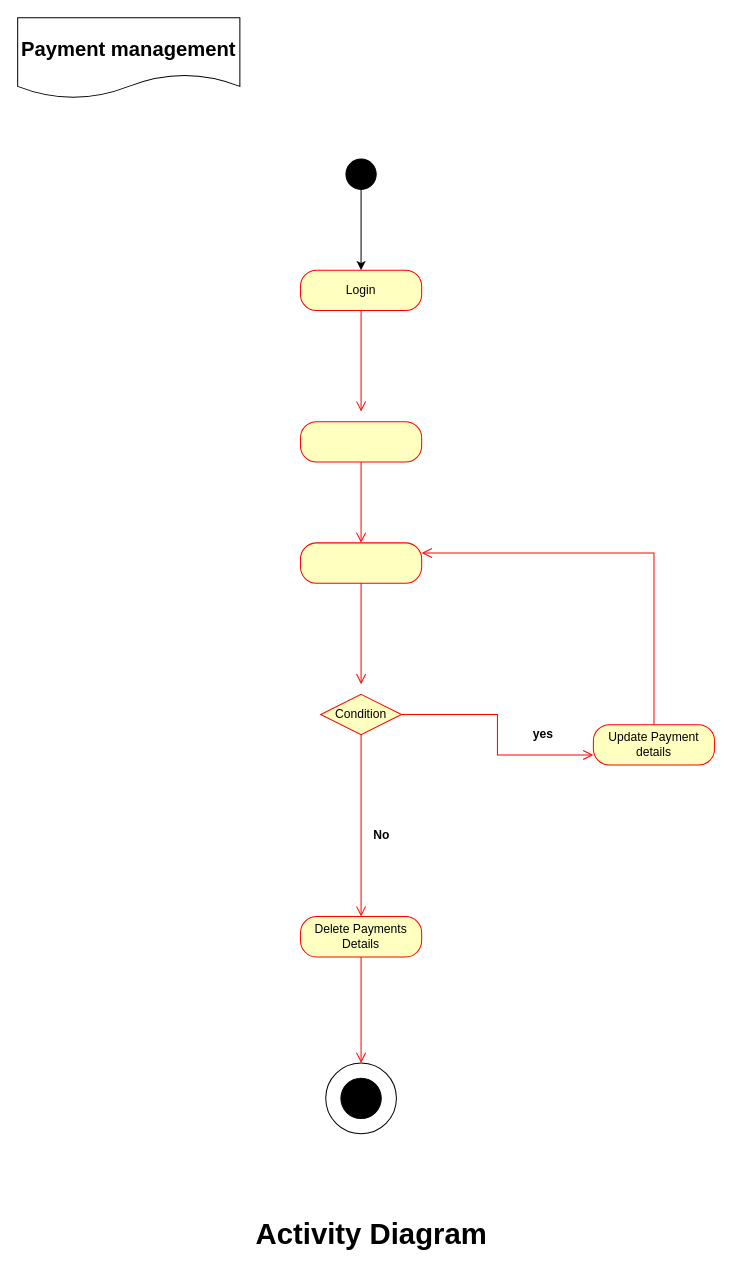
This 732x1270 diagram has some shape labels left out. The shapes that lost their labels are listed below. From the top down, each one's centre as x and y in pixels, then its label:
At point (360, 441): "Add Payment Details".
At point (360, 562): "View Payments Details".
